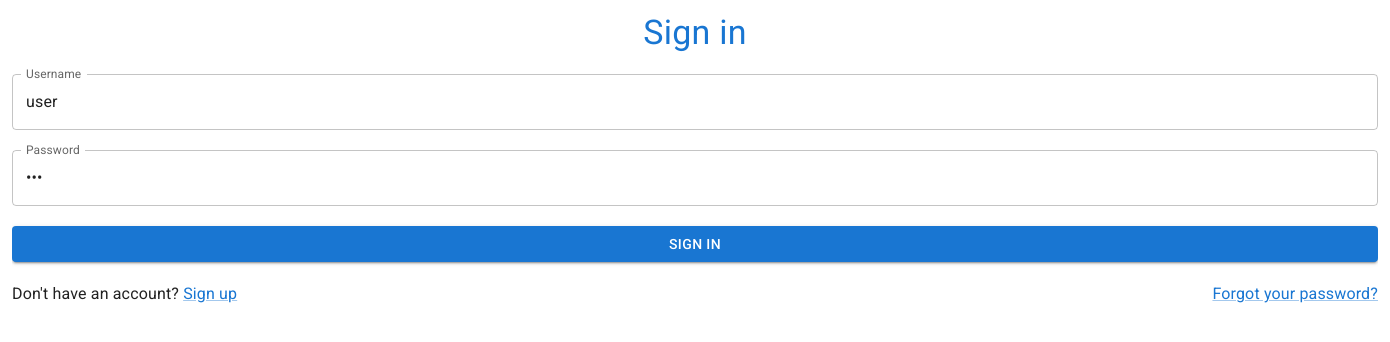
Test case: login form › should display success message for valid data
This screenshot has width=1390, height=342.
Expected: the text "login succesful!" is not shown
# Submit form
Click the button "Sign in": (695, 244) [12, 226, 1378, 262]
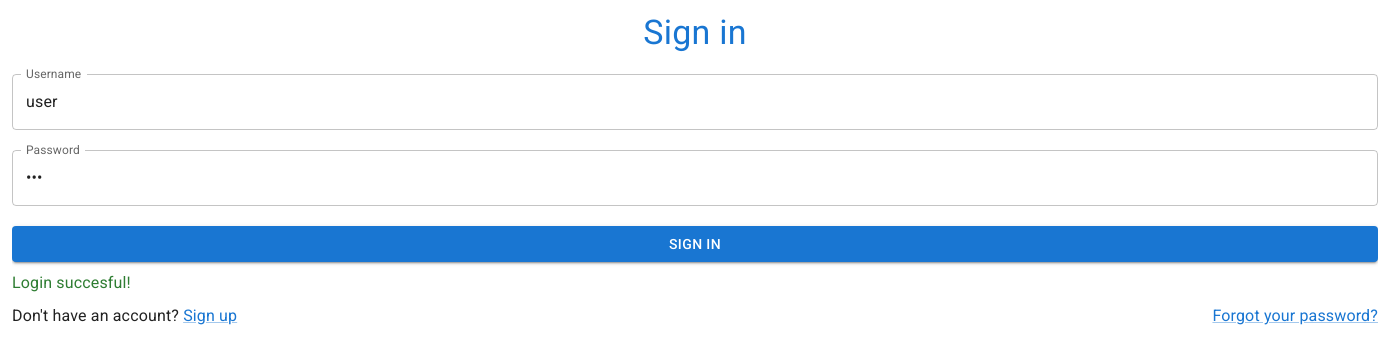
Expected: the text "Login succesful!" is shown, [12, 274, 131, 292]
